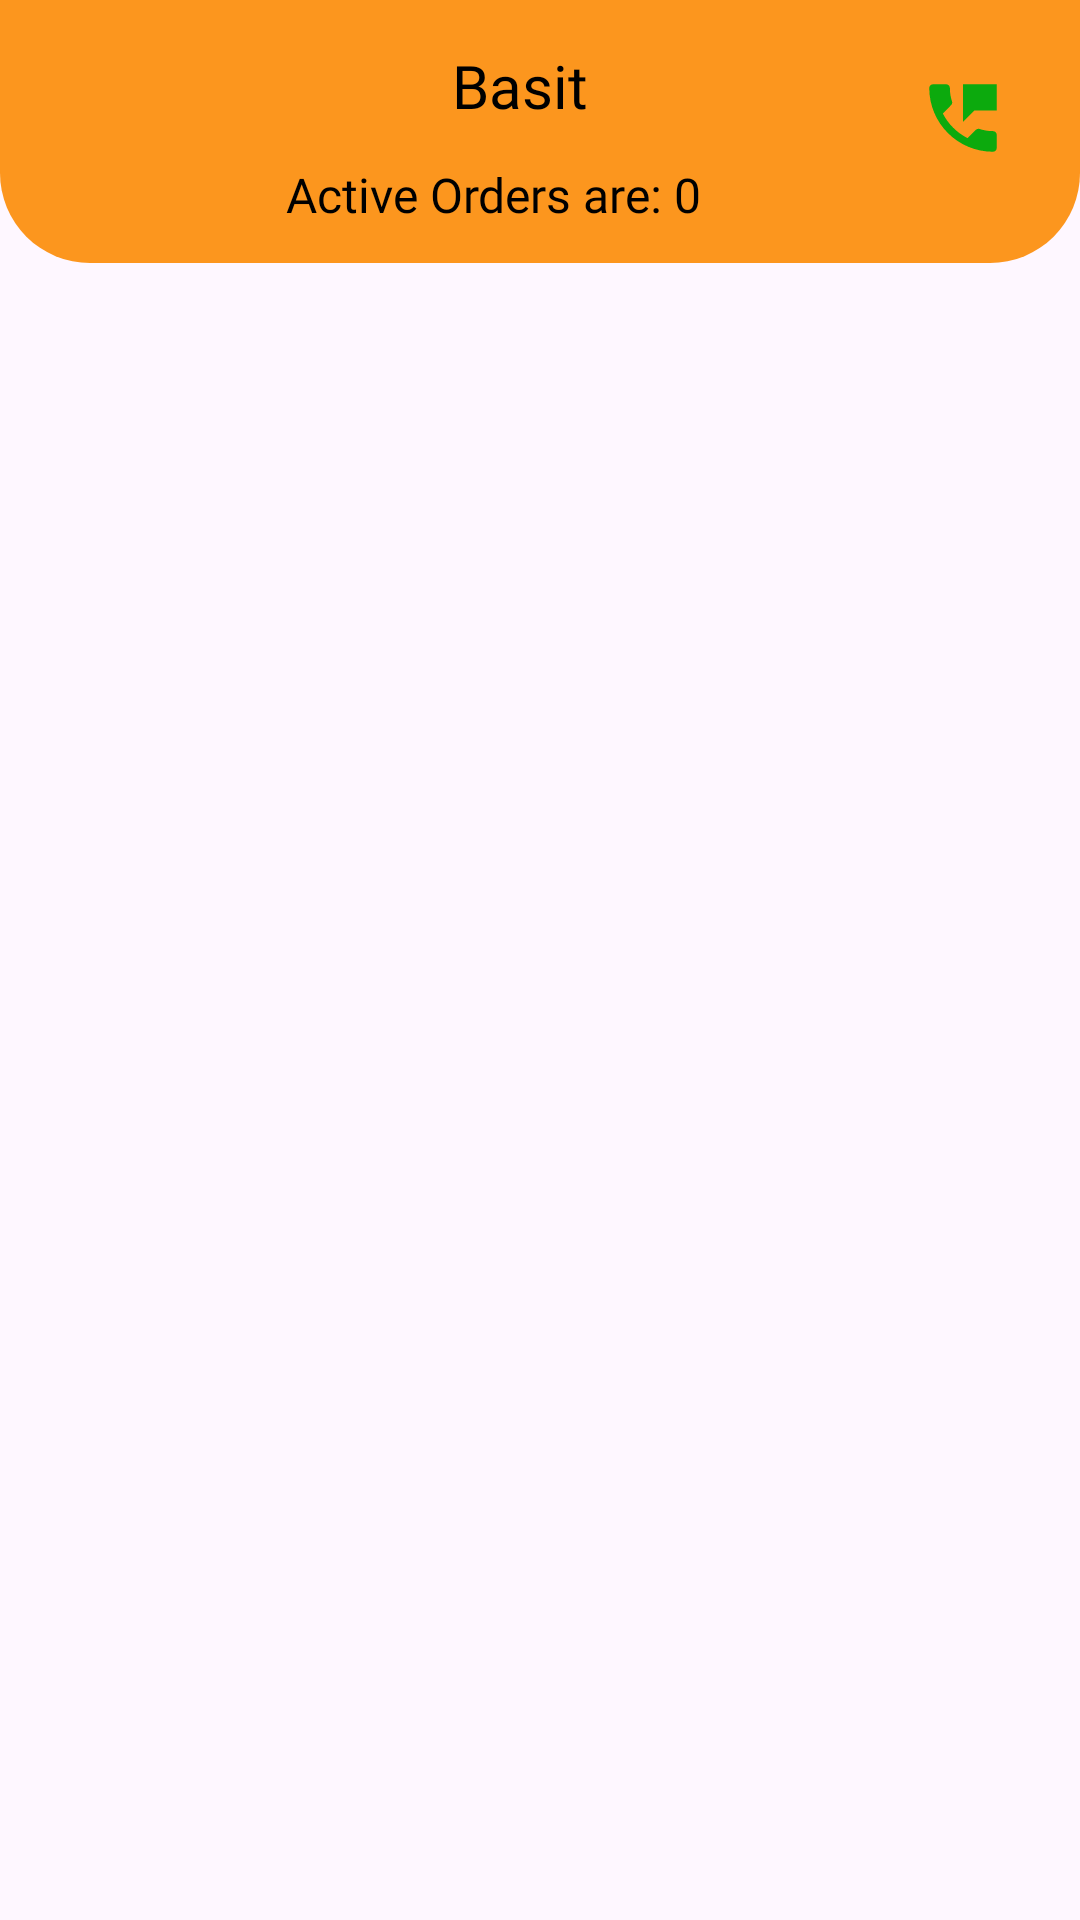

Locate icon controls on the screen. Image size 1080 x 1920, boxes as box=[x1, y1, x2, y2].
perm phone msg: box=[929, 84, 997, 152]
